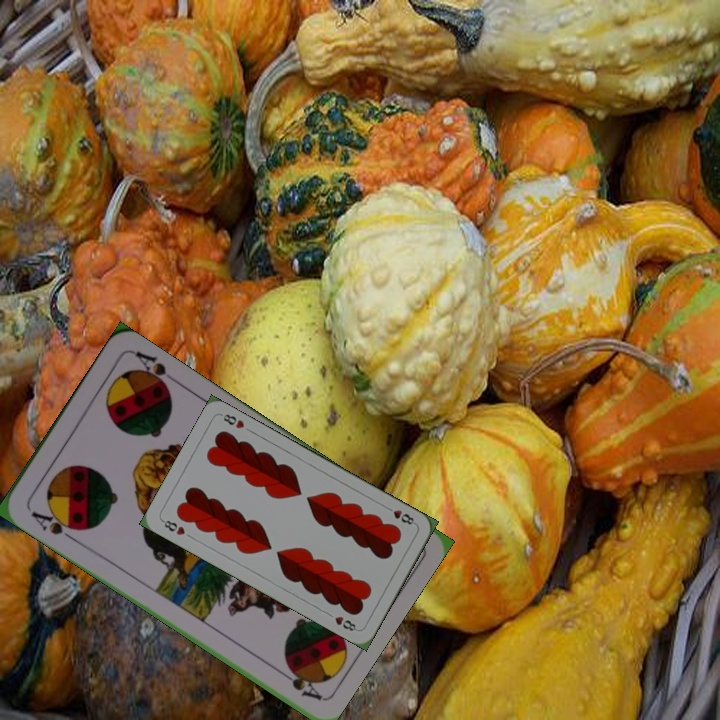H8: (381, 502, 419, 527), (158, 516, 188, 538)
SA: (27, 506, 83, 544)
